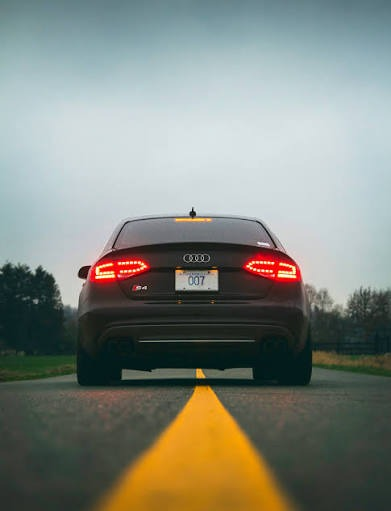car: (39, 208, 343, 462), (71, 207, 316, 387), (45, 384, 327, 510)
